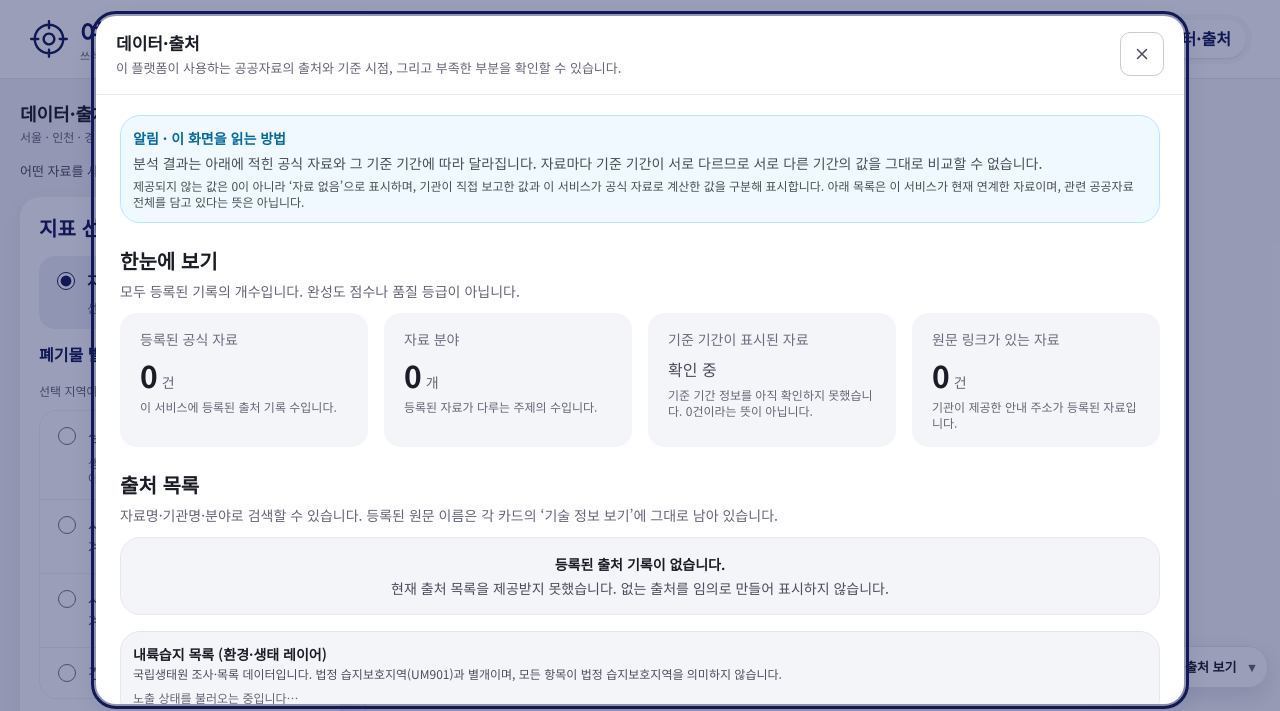
Test: the legacy transparency URL › puts a real destination behind a cold deep link, not a blank frame
The width and height of the screenshot is (1280, 711).
Click the button with test id "data-sources-dialog-close". click: (1142, 54)
box: [1120,32,1164,76]
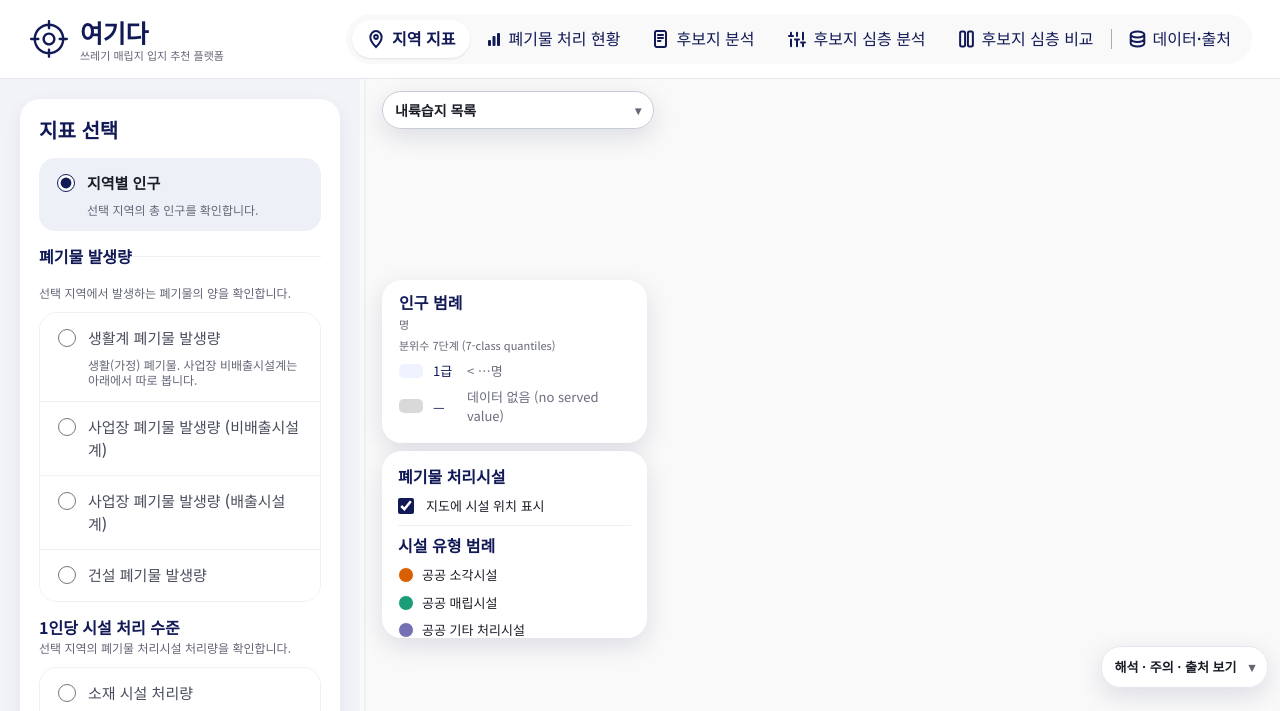
Check: the dialog with test id "data-sources-dialog" is gone
